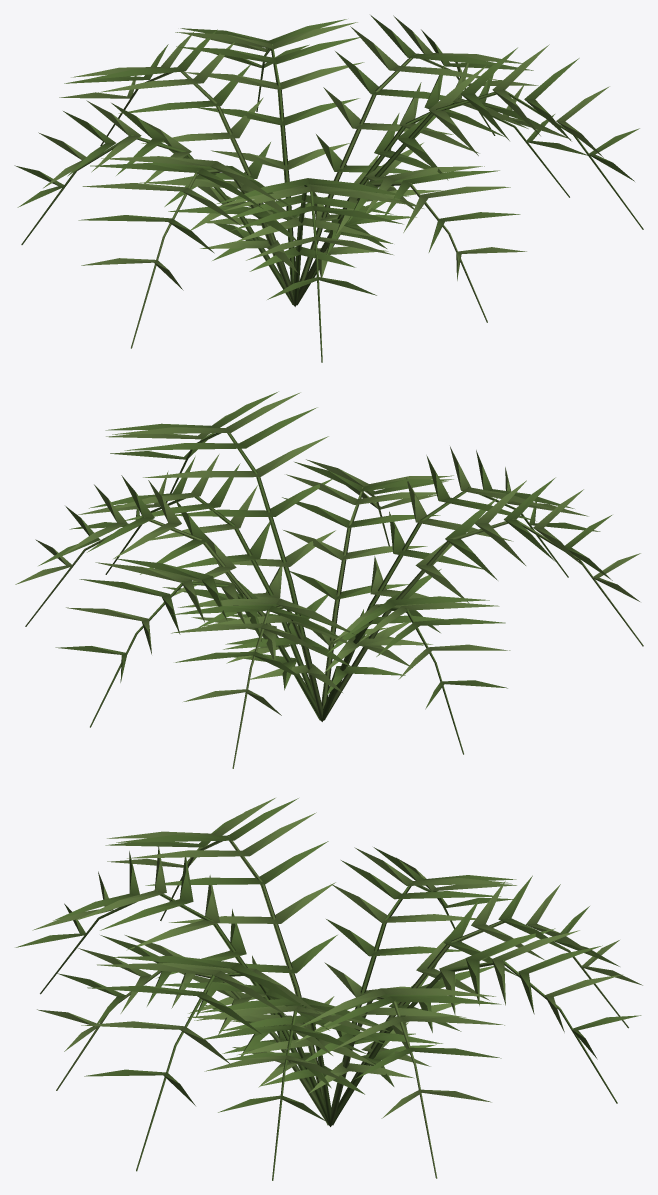
Rendered from woodland_fern.gltf.
3 renders of one model, top to bottom at view 1: azimuth 30°, elevation 25°; view 2: azimuth 150°, elevation 25°; view 3: azimuth 270°, elevation 25°, orthographic. The views are drawn at different scales.
Visible parts, largest first — view 1: woodland_fern; view 2: woodland_fern; view 3: woodland_fern.
Part boxes in pixels (x1=…): woodland_fern: x1=14, y1=15, x2=643, y2=362; woodland_fern: x1=15, y1=391, x2=643, y2=768; woodland_fern: x1=15, y1=798, x2=642, y2=1180.
Size of the model in its own units: 1.63 by 0.6331 by 1.54.
Materials: 2 (2 with a texture image).
